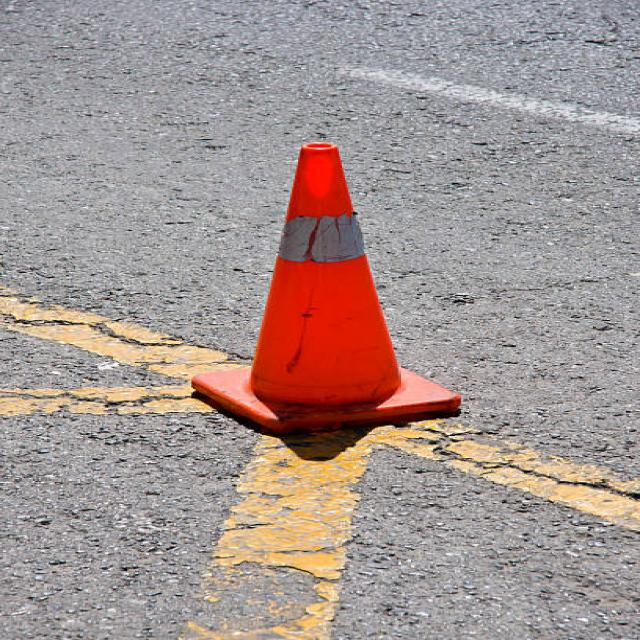Traffic Cone: (170, 117, 478, 446)
